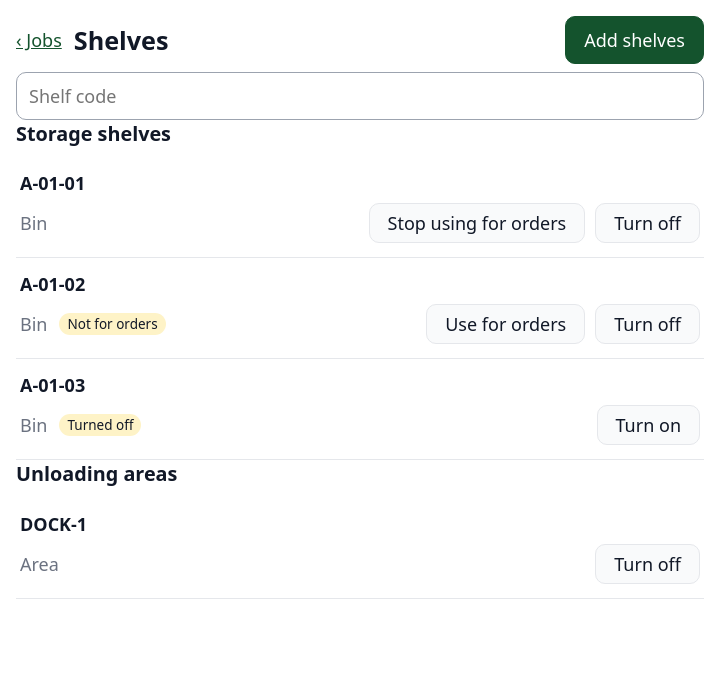
Test: shelves screen › says why a shelf holding stock cannot be turned off
The width and height of the screenshot is (721, 700).
Click the 1st button "Turn off" at (648, 223), box [595,203,700,243]
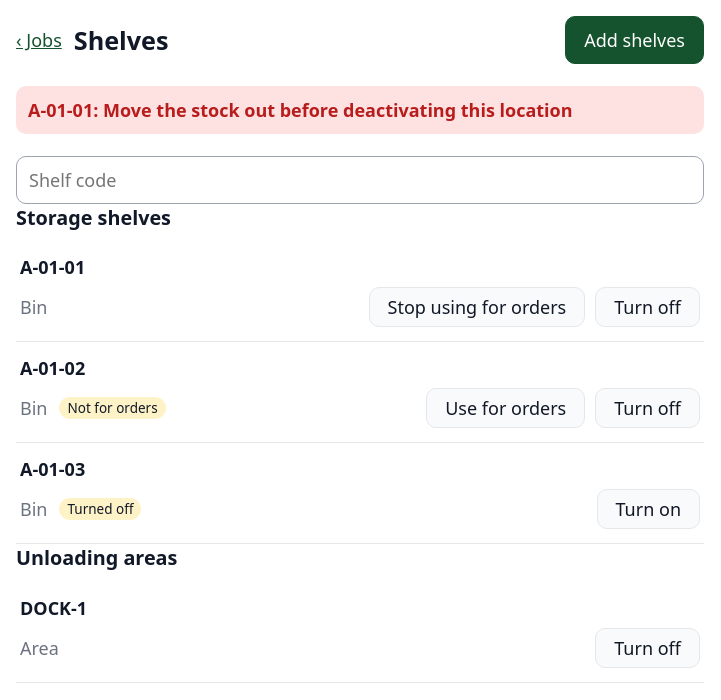
Expected: the 1st button "Turn off" is enabled, [595,287,700,327]
Expected: the message reads "A-01-01: Move the stock out before deactivating this location", [28,98,573,122]
